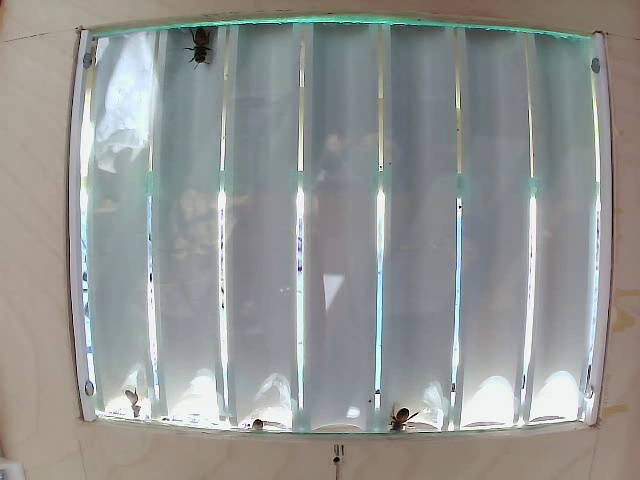bee: (185, 24, 223, 71)
